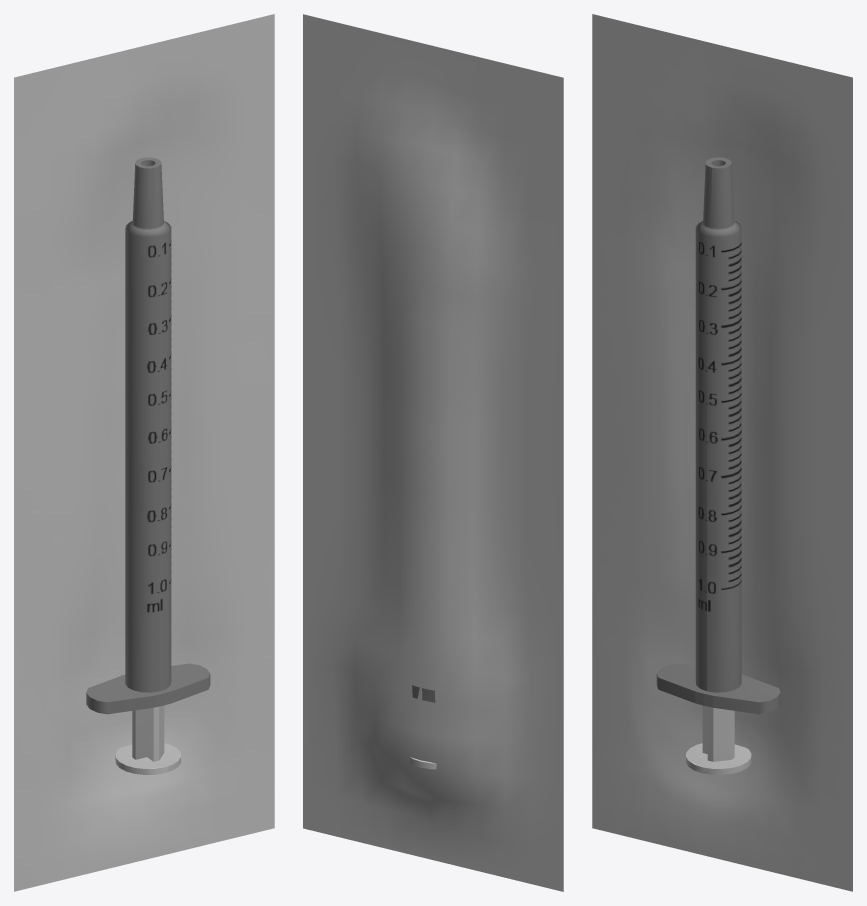
File: syringe_1ml.fbx
3 renders of one model, left to right at view 1: azimuth 30°, elevation 25°; view 2: azimuth 150°, elevation 25°; view 3: azimuth 330°, elevation 25°, orthographic.
Parts seen in each view (by area): view 1: syringe_1ml_cover_back, syringe_1ml_out, syringe_1ml_in; view 2: syringe_1ml_cover_back; view 3: syringe_1ml_cover_back, syringe_1ml_out, syringe_1ml_in.
Boxes of the visible parts, x1,y1,x2,y2 form: syringe_1ml_cover_back: [14, 14, 274, 891]; syringe_1ml_out: [86, 157, 210, 714]; syringe_1ml_in: [115, 705, 180, 774]; syringe_1ml_cover_back: [303, 14, 563, 891]; syringe_1ml_cover_back: [592, 14, 852, 891]; syringe_1ml_out: [656, 157, 780, 714]; syringe_1ml_in: [686, 705, 751, 774].
Bounding box in the file's own units: 4.55 × 13.6 × 1.01.
